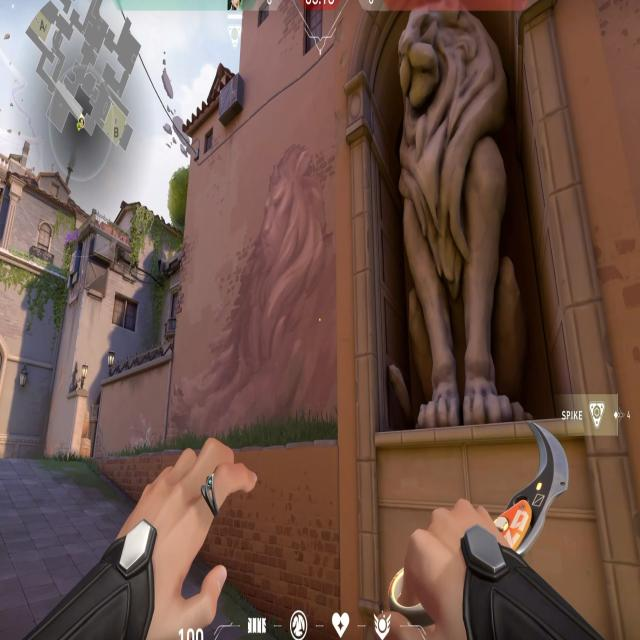Lion_Corner: (349, 0, 576, 463)
